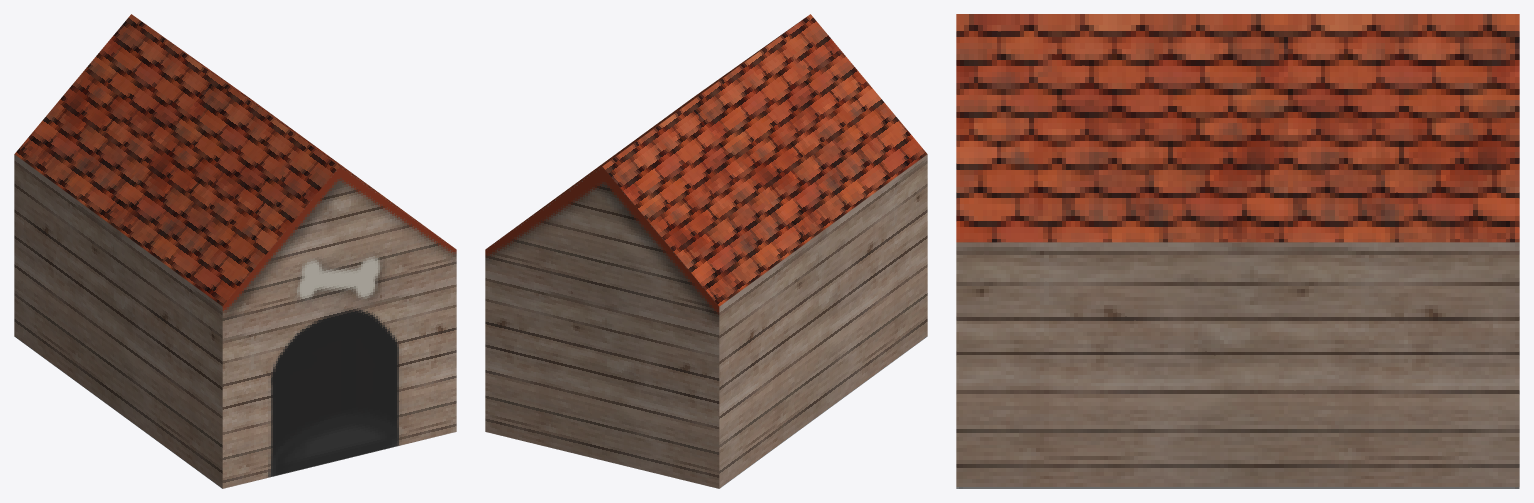
Rendered from doghouse.glb.
The picture shows the model from 3 angles, left to right: view 1: azimuth 30°, elevation 25°; view 2: azimuth 150°, elevation 25°; view 3: azimuth 270°, elevation 25°; orthographic projection. The views are drawn at different scales.
Visible parts, largest first — view 1: Cube; view 2: Cube; view 3: Cube.
Part boxes in pixels (x1,y1,x2,y2): Cube: (14,14,456,488); Cube: (485,14,927,488); Cube: (956,14,1519,488).
Size of the model in its own units: 2 by 2.4 by 3.08.
1 material, 1 textured.
